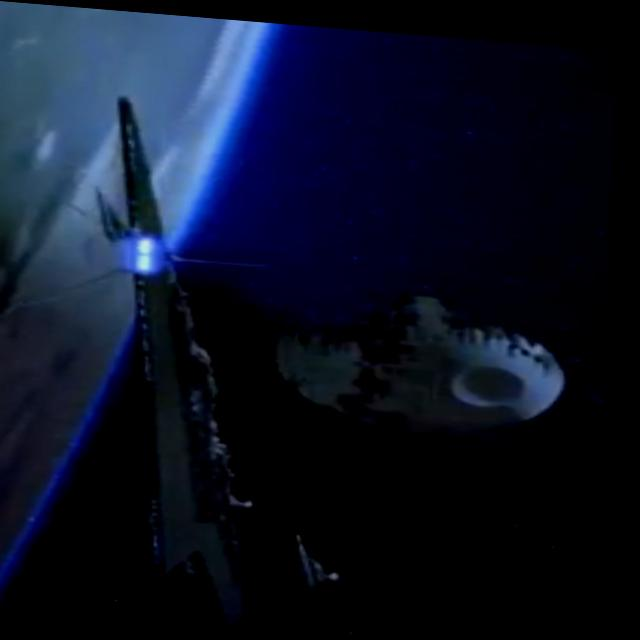deathStar: (271, 277, 567, 436)
